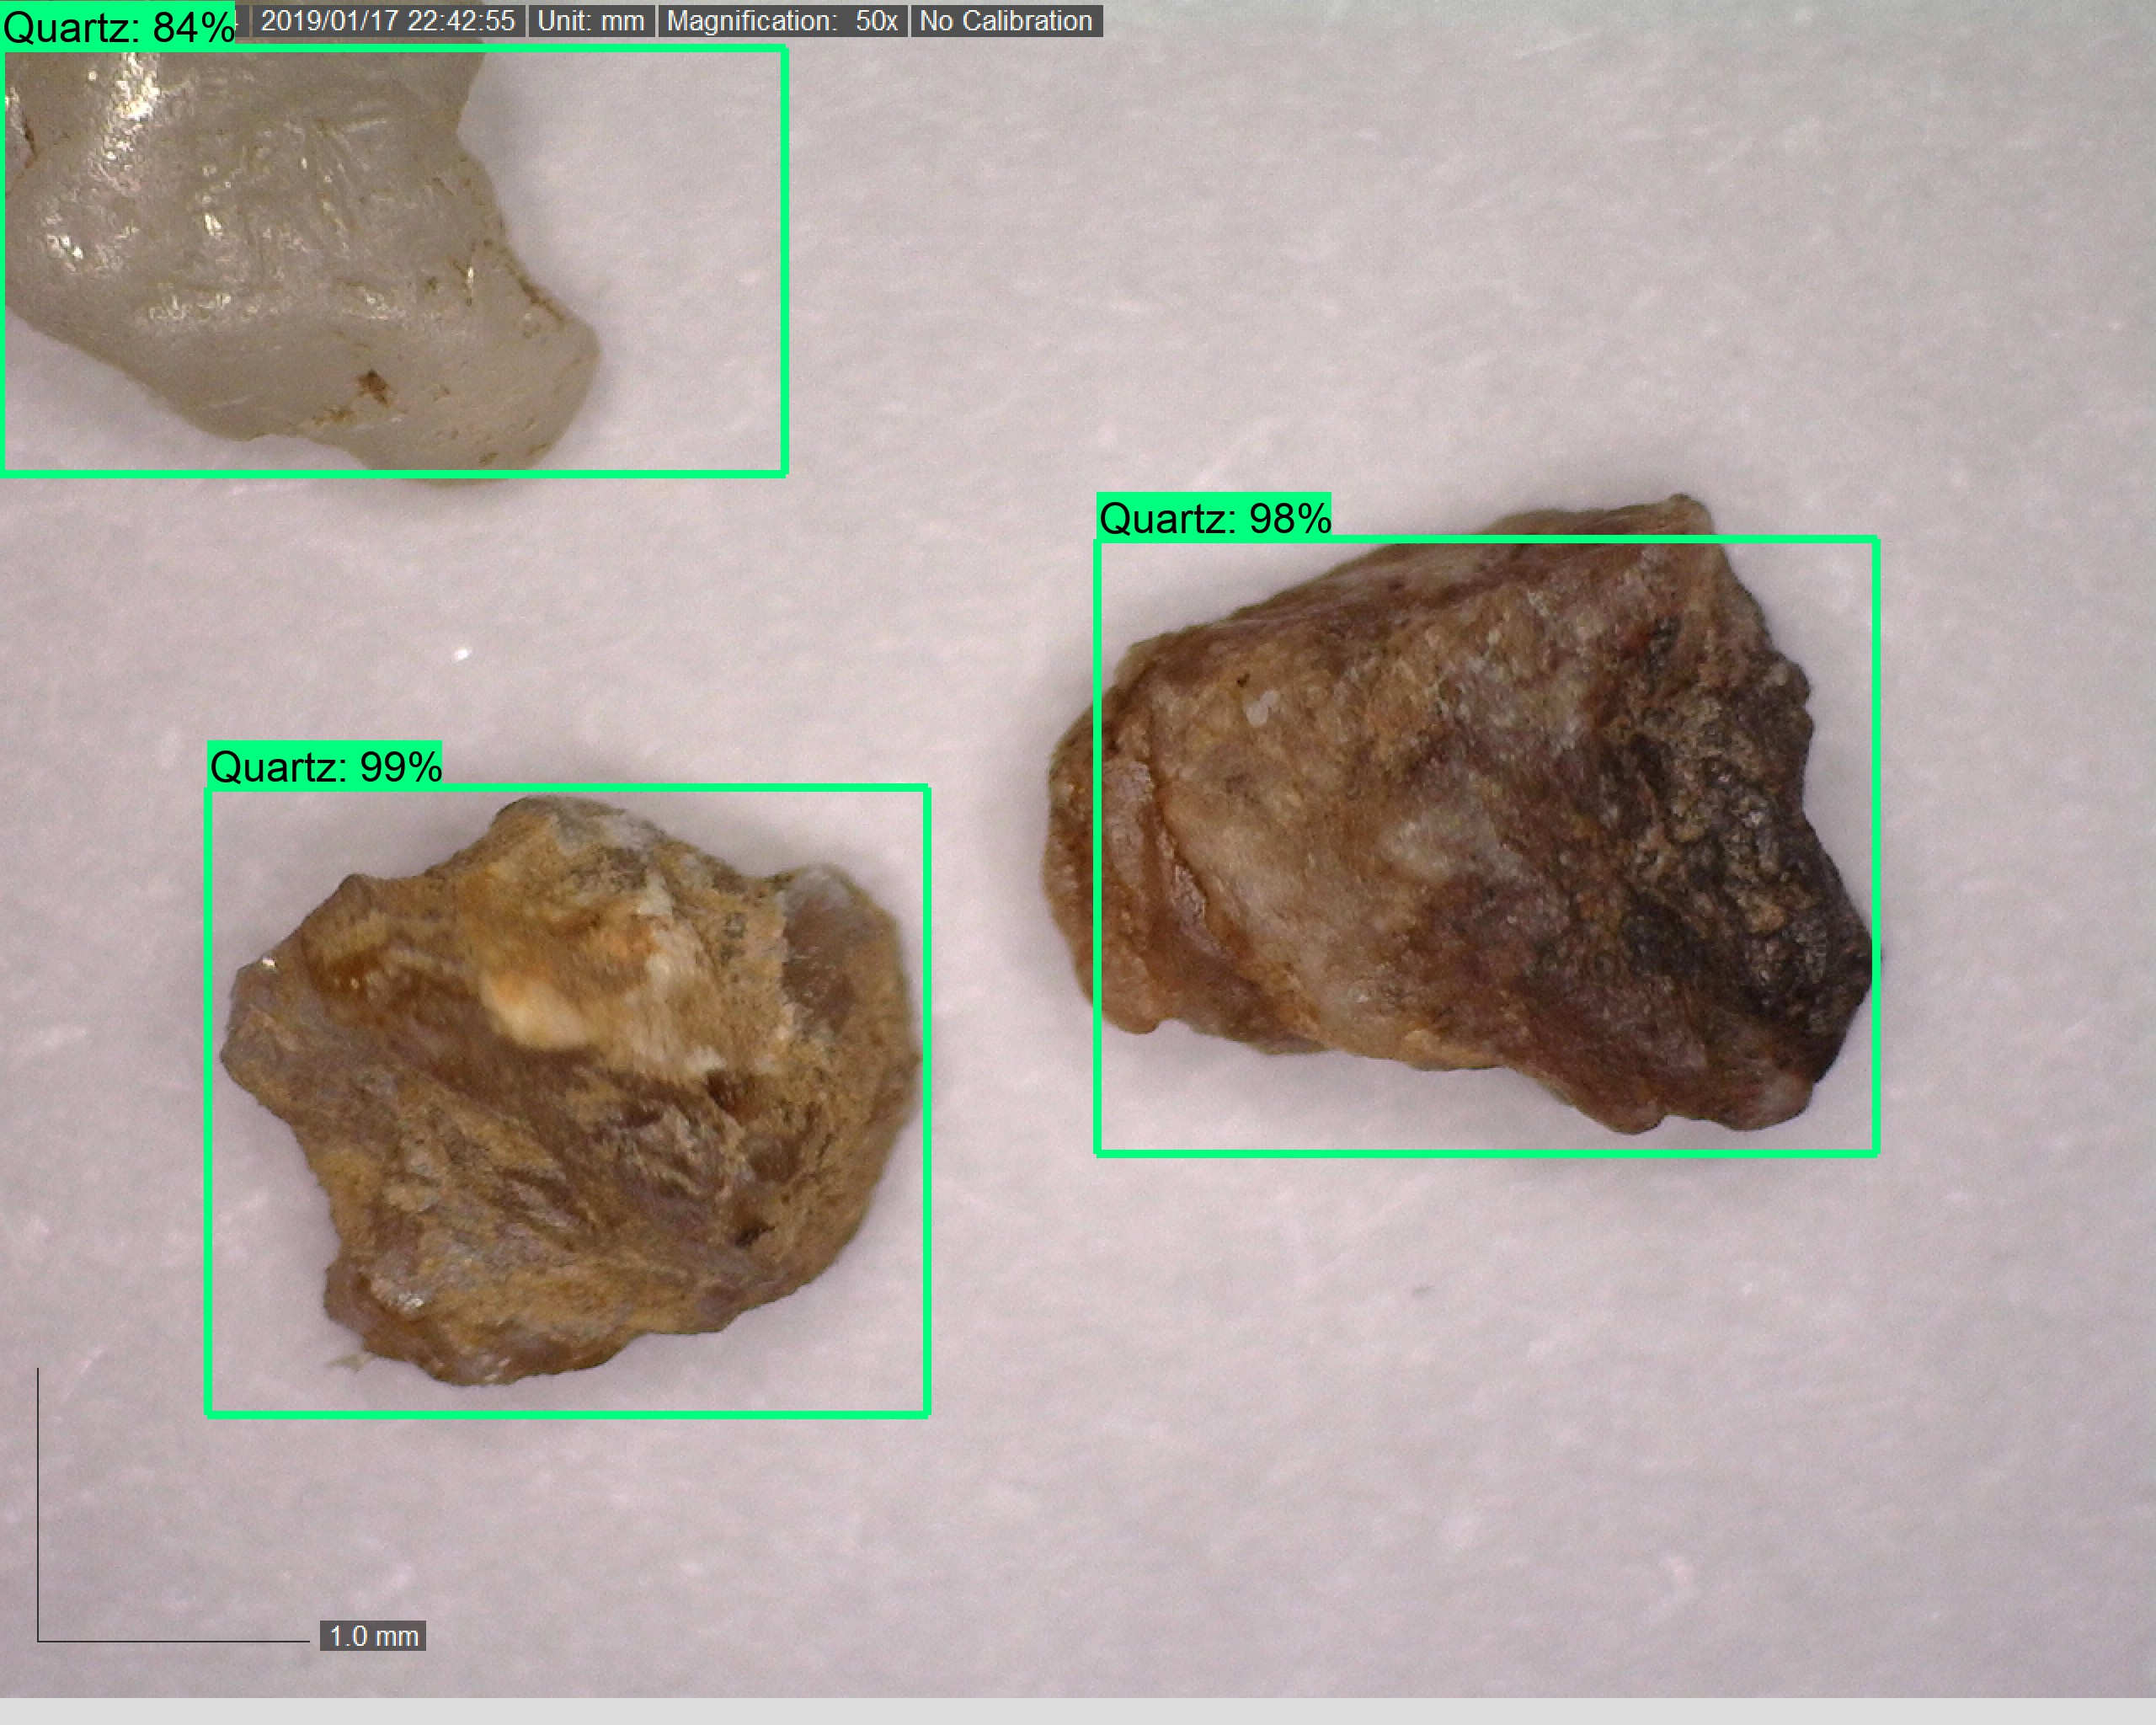Quartz: (1033, 489, 1887, 1151), (222, 782, 926, 1406), (7, 42, 616, 498)
